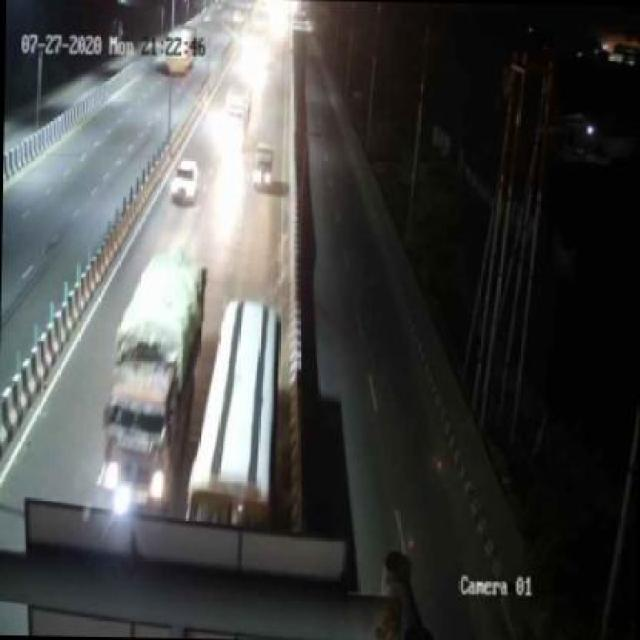car: (169, 154, 202, 209), (249, 138, 280, 192)
